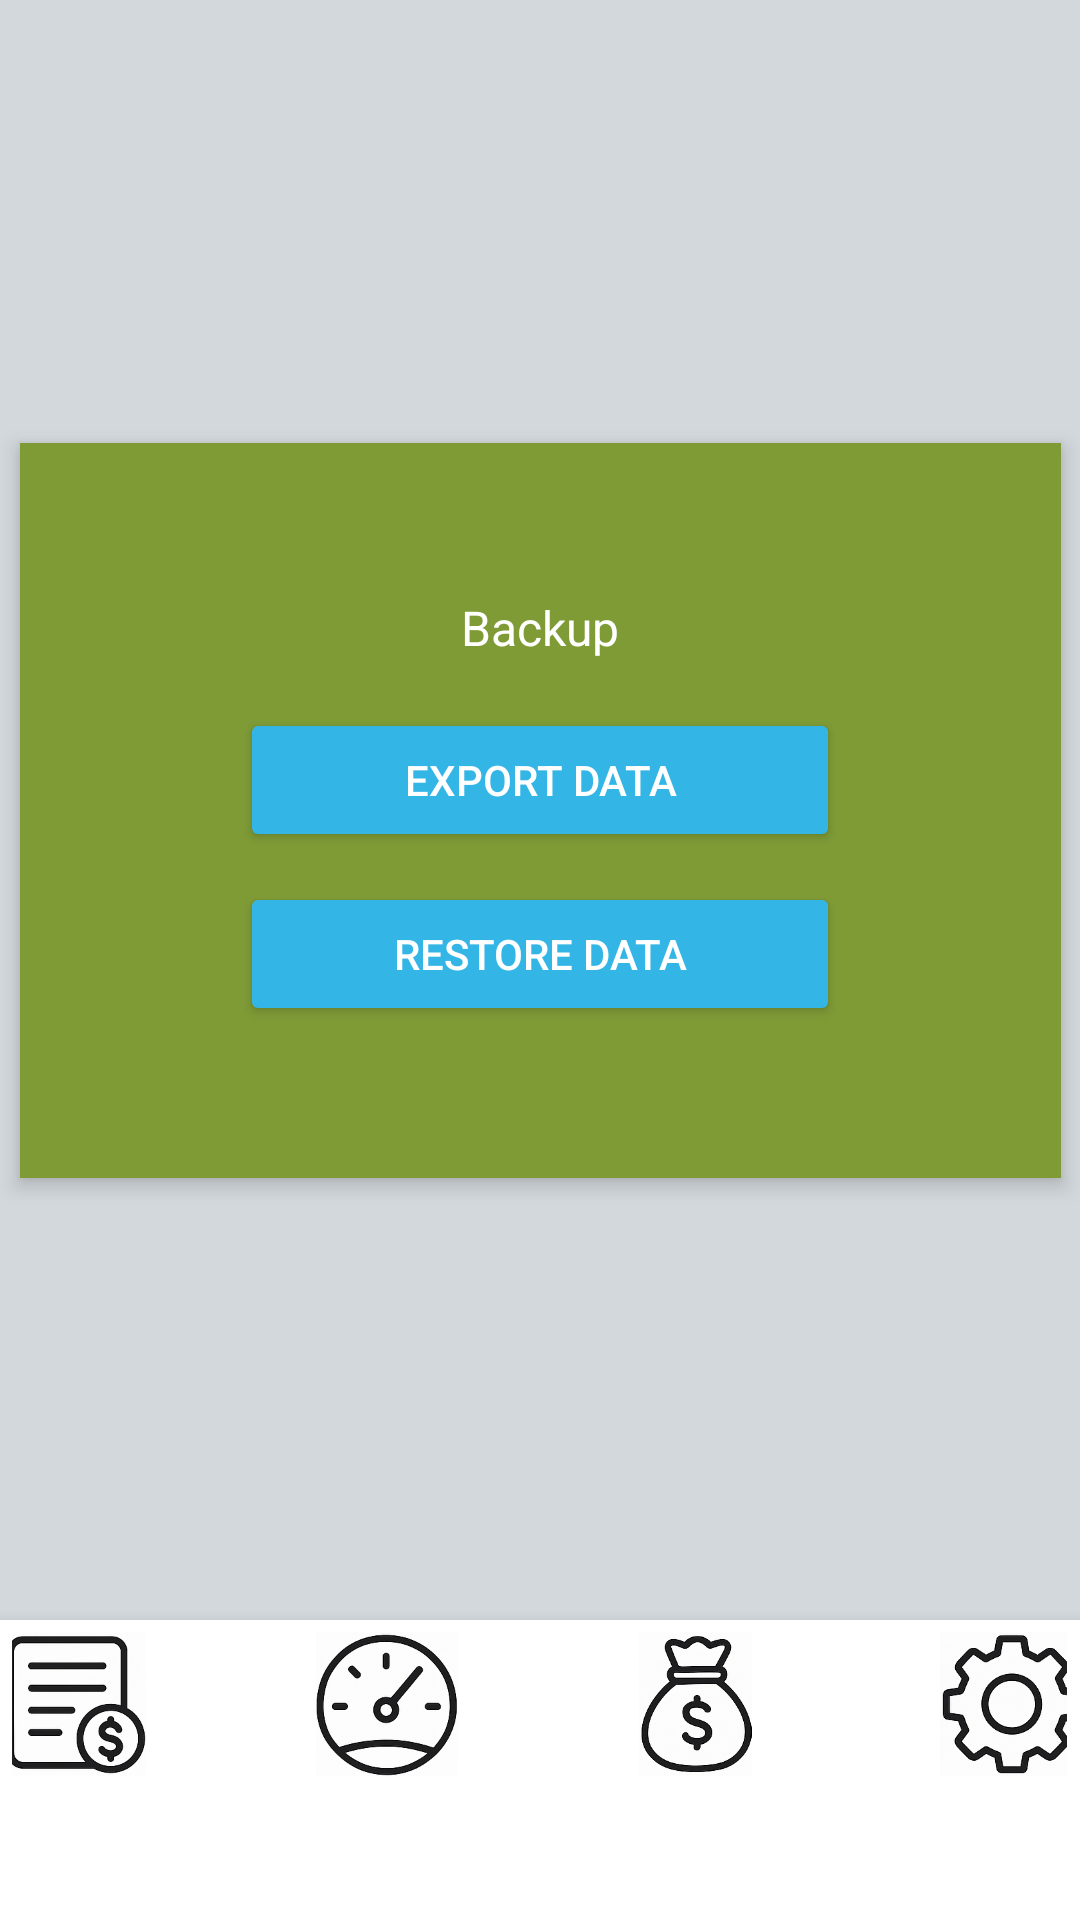

Named icons in this screenshot (1080×1920) and their bounding boxes, (x1, y1, x2, y2):
Budget: (641, 1636, 752, 1772)
Dashboard: (316, 1634, 457, 1776)
Setting: (942, 1635, 1067, 1774)
Transaction: (12, 1636, 146, 1774)
